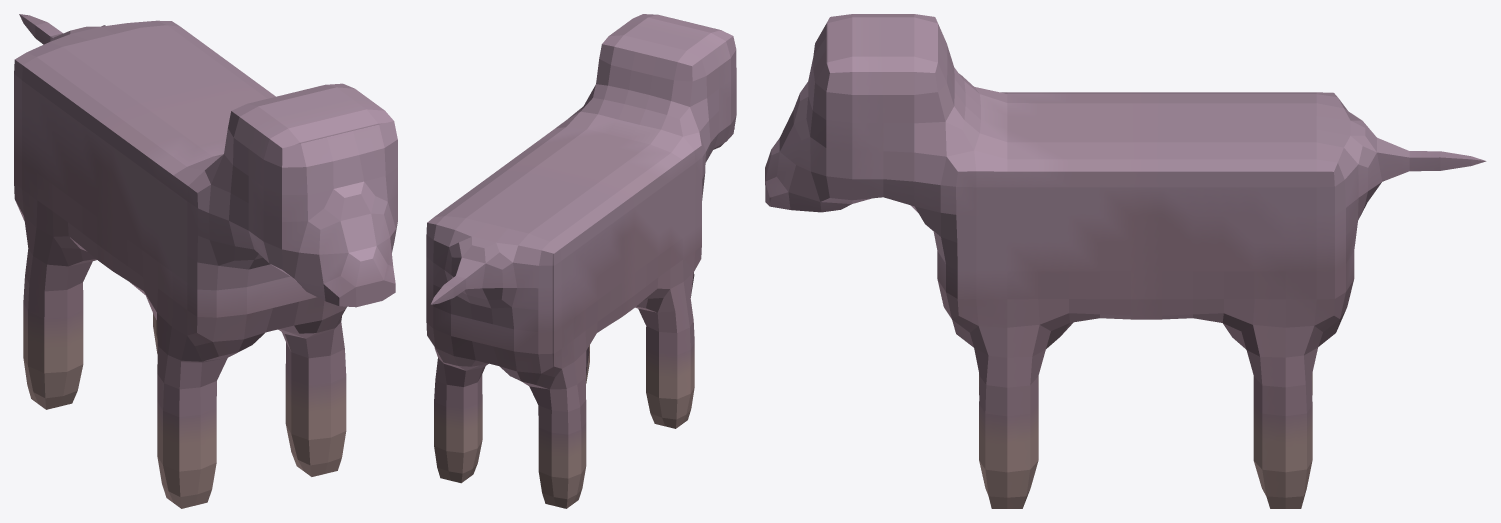
File: threeHeadedHound.glb
3 views of the same model, side by side, from view 1: azimuth 30°, elevation 25°; view 2: azimuth 150°, elevation 25°; view 3: azimuth 270°, elevation 25° (orthographic). The views are drawn at different scales.
Parts seen in each view (by area): view 1: geometry_0; view 2: geometry_0; view 3: geometry_0.
Part boxes in pixels (x1,y1,x2,y2): geometry_0: [14, 14, 397, 508]; geometry_0: [426, 14, 736, 508]; geometry_0: [765, 14, 1486, 508].
Bounding box in the file's own units: 0.4437 × 1 × 1.51.
1 material, 1 textured.
